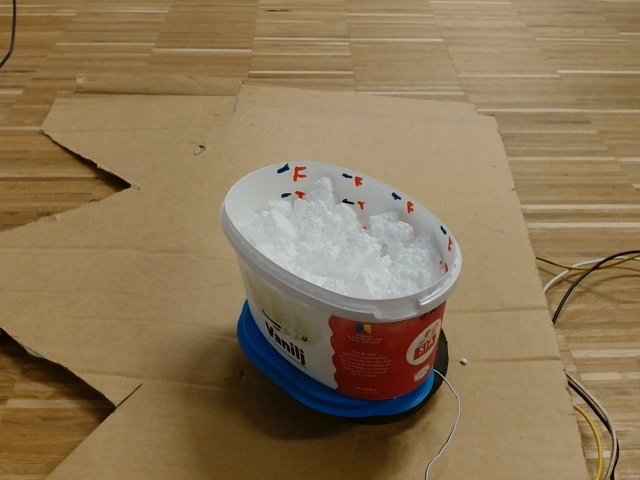Big_threequarter: (216, 158, 464, 324)
